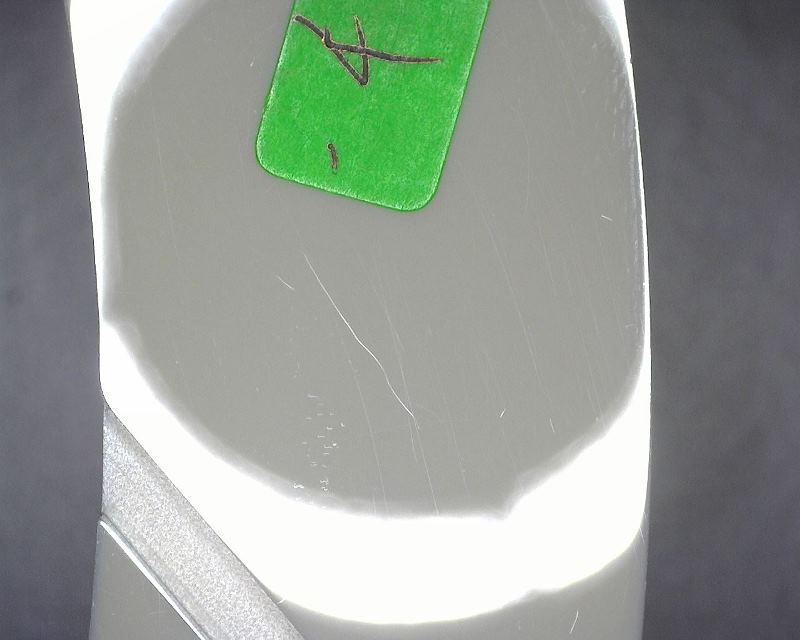scratch: (303, 255, 420, 420), (305, 427, 343, 489), (272, 271, 295, 290), (569, 610, 582, 635), (598, 212, 613, 223), (547, 416, 557, 432), (498, 406, 508, 419)
